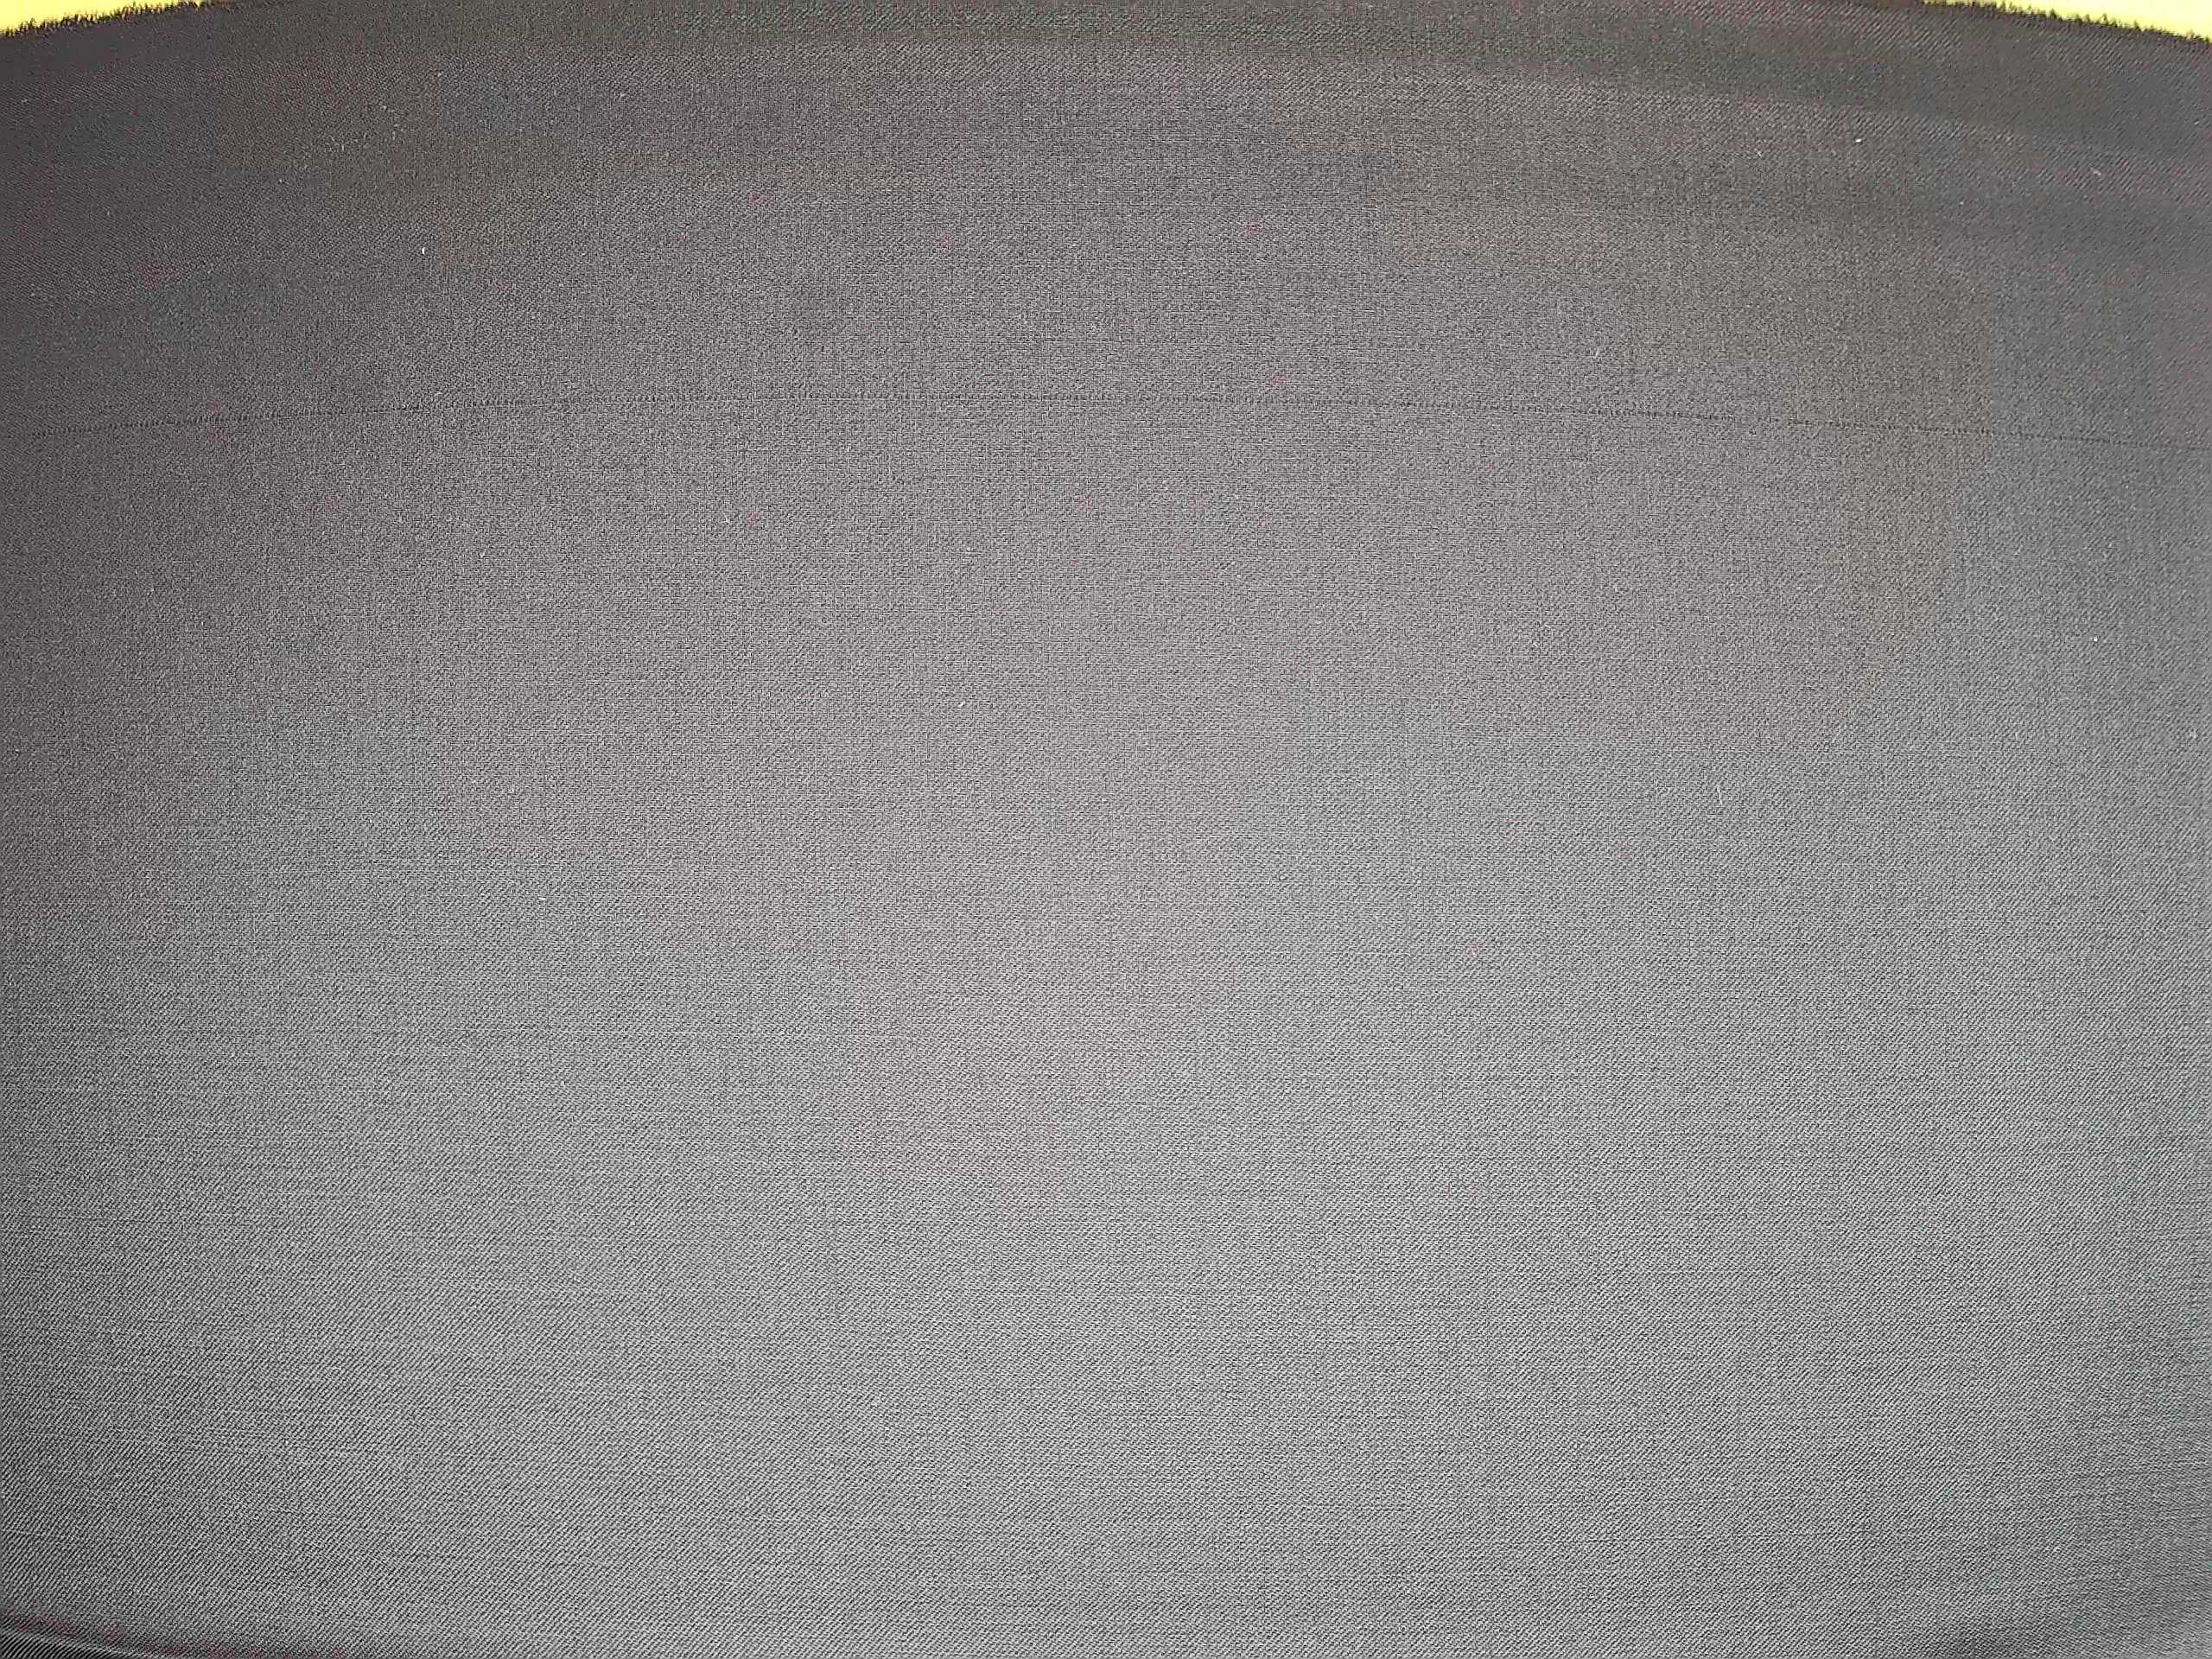others: (7, 382, 1905, 450)
